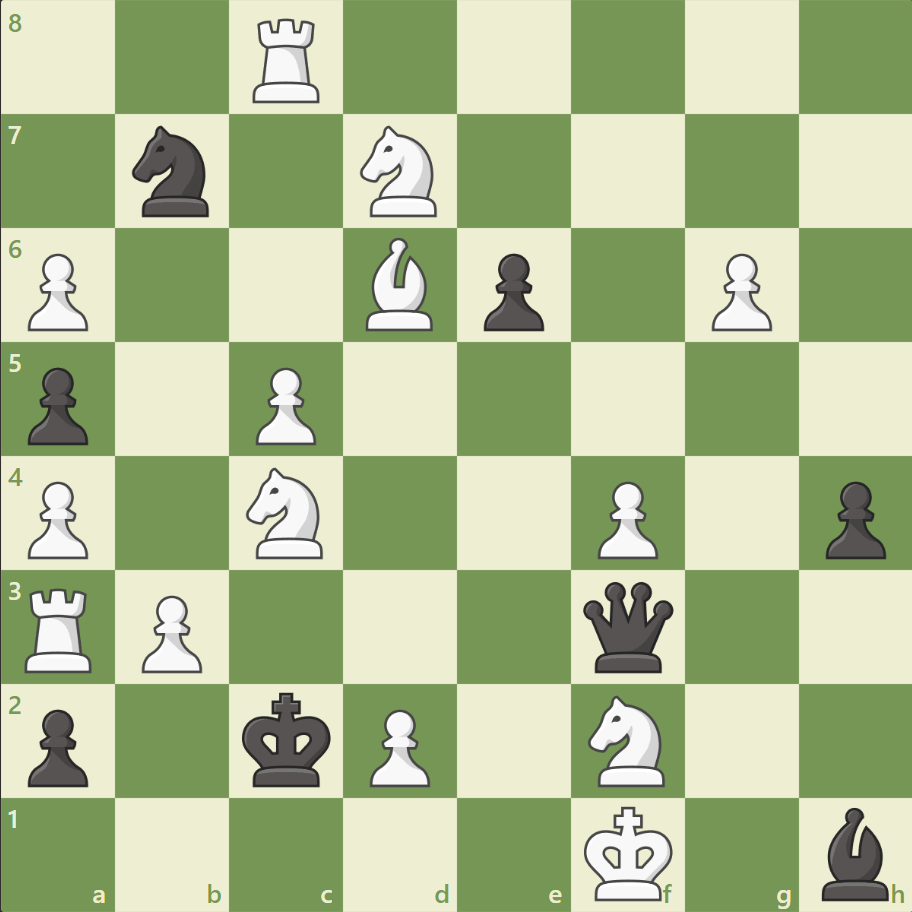B: (358, 233, 442, 336)
K: (579, 798, 679, 906)
N: (351, 121, 449, 223), (238, 461, 335, 564), (579, 688, 676, 791)
P: (20, 246, 95, 337), (701, 246, 776, 337), (247, 359, 322, 450), (20, 473, 95, 564), (133, 586, 208, 677), (588, 473, 662, 564), (361, 700, 435, 791)
R: (246, 12, 329, 109), (19, 579, 102, 676)
b: (812, 801, 896, 904)
k: (238, 685, 338, 793)
n: (124, 121, 222, 223)
p: (474, 246, 549, 337), (20, 359, 95, 450), (20, 700, 95, 791), (815, 473, 889, 564)
q: (578, 576, 677, 676)
